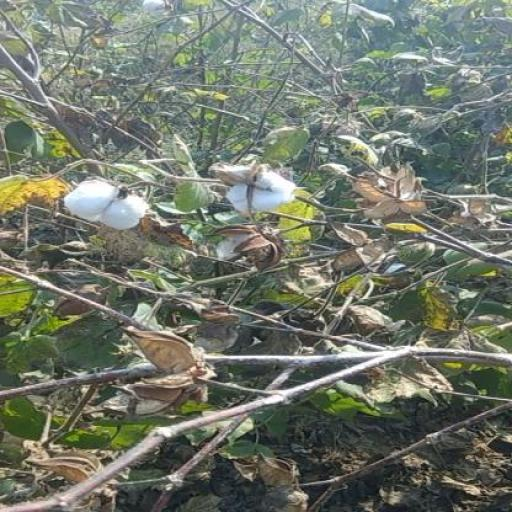cotton_ready: (38, 172, 154, 249), (223, 158, 331, 233)
